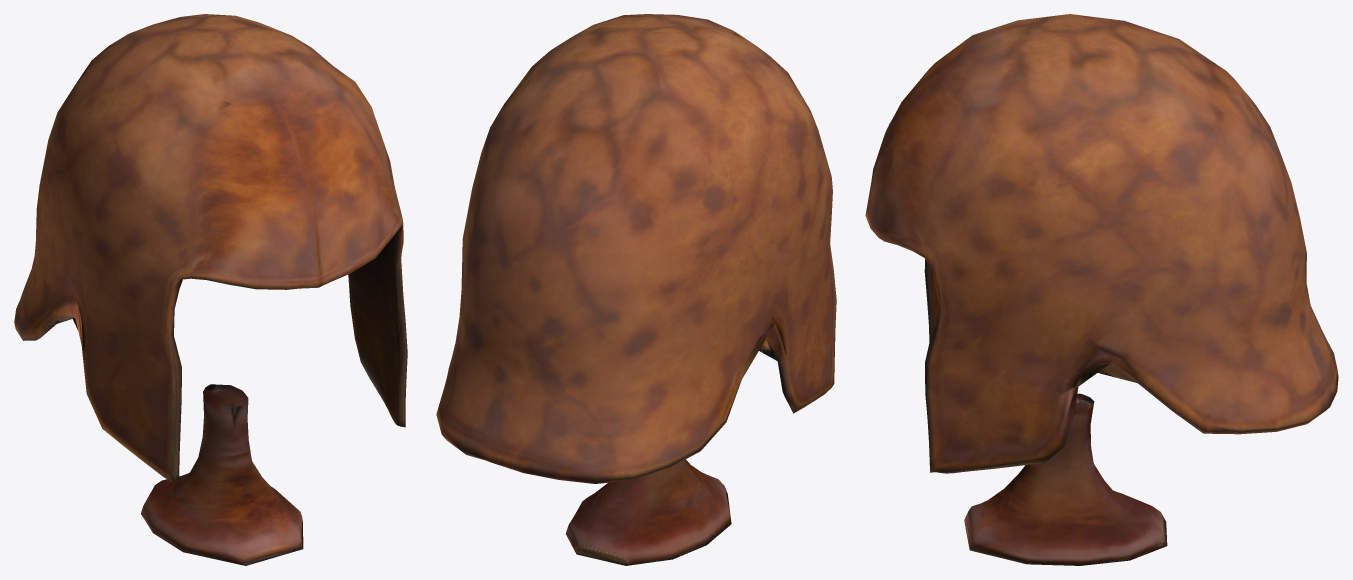
Rendered from helmet-leather-leather_backup.glb.
3 renders of one model, left to right at view 1: azimuth 30°, elevation 25°; view 2: azimuth 150°, elevation 25°; view 3: azimuth 270°, elevation 25°, orthographic. The views are drawn at different scales.
Bounding box in the file's own units: 1.2 × 1.99 × 1.69.
Materials: 1 (1 with a texture image).
